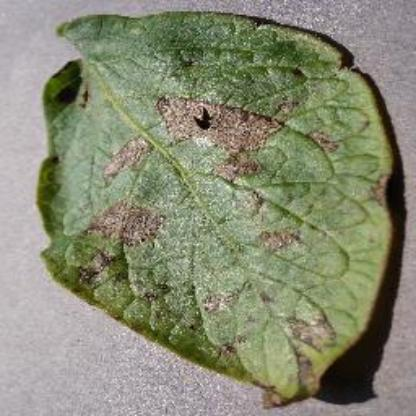Early-Blight: (36, 8, 400, 408)
